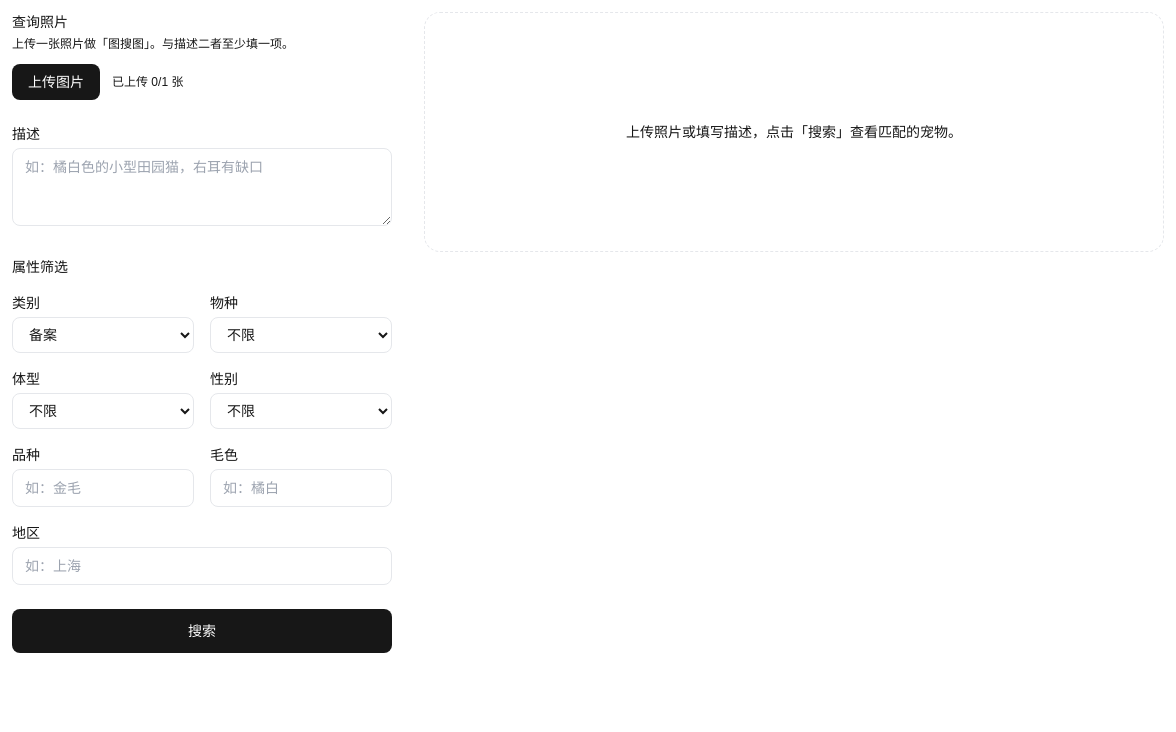
Scenario: SearchForm › preserves the submitted query when navigating between pages
Type "specific cat" into the text box labelled "描述" at (202, 187), box x1=12 y1=148 x2=392 y2=226
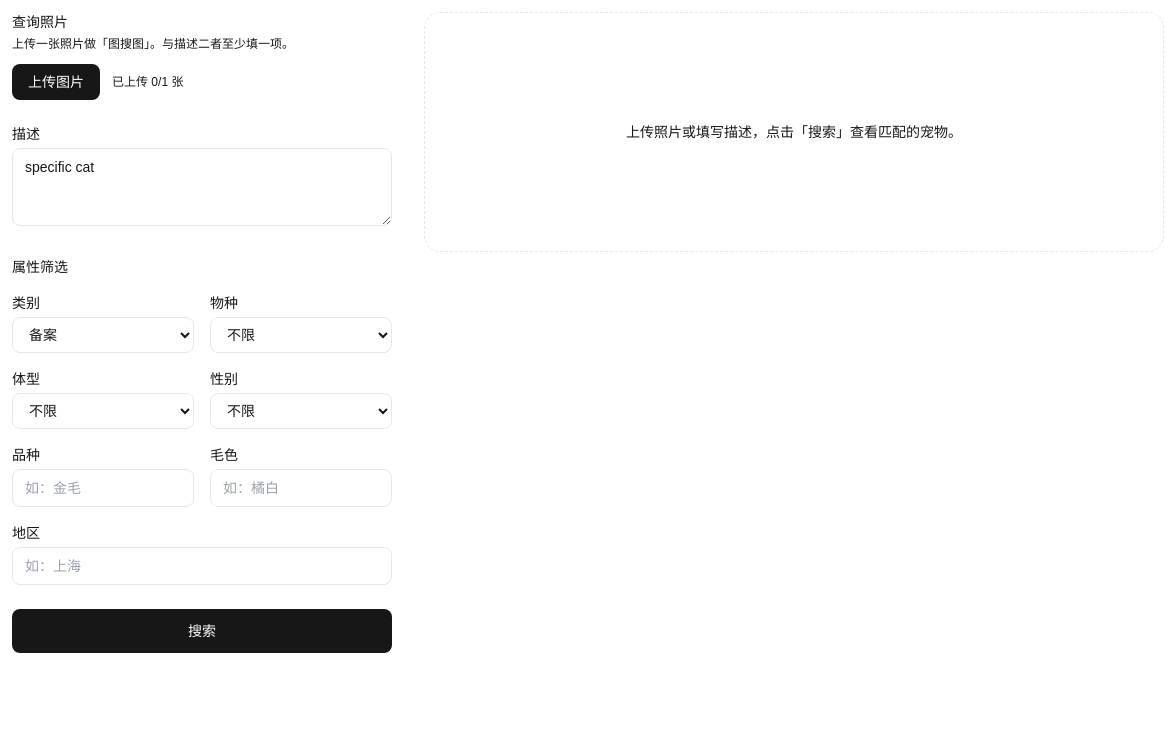
Click the button "搜索" at (202, 631), box x1=12 y1=609 x2=392 y2=653
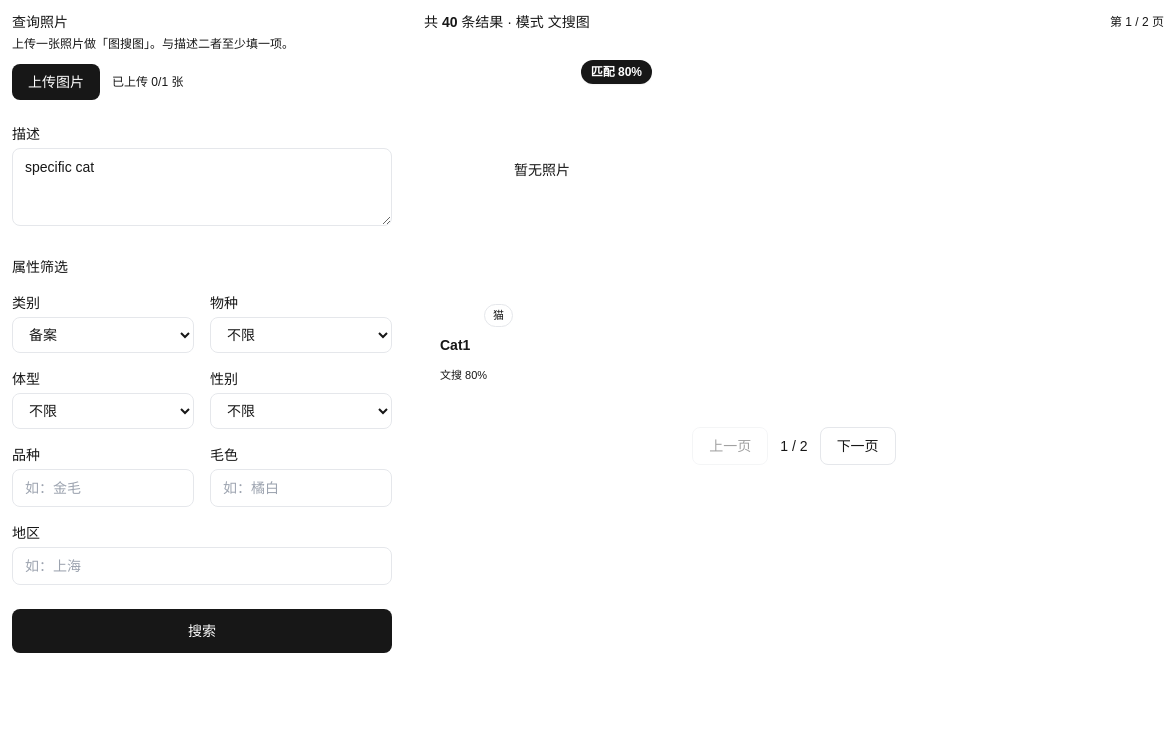
expect the heading "Cat1" is shown: met, box x1=440 y1=336 x2=470 y2=352
Note: Navigate to page 2
Click the button "下一页" at (858, 446), box x1=820 y1=427 x2=896 y2=465
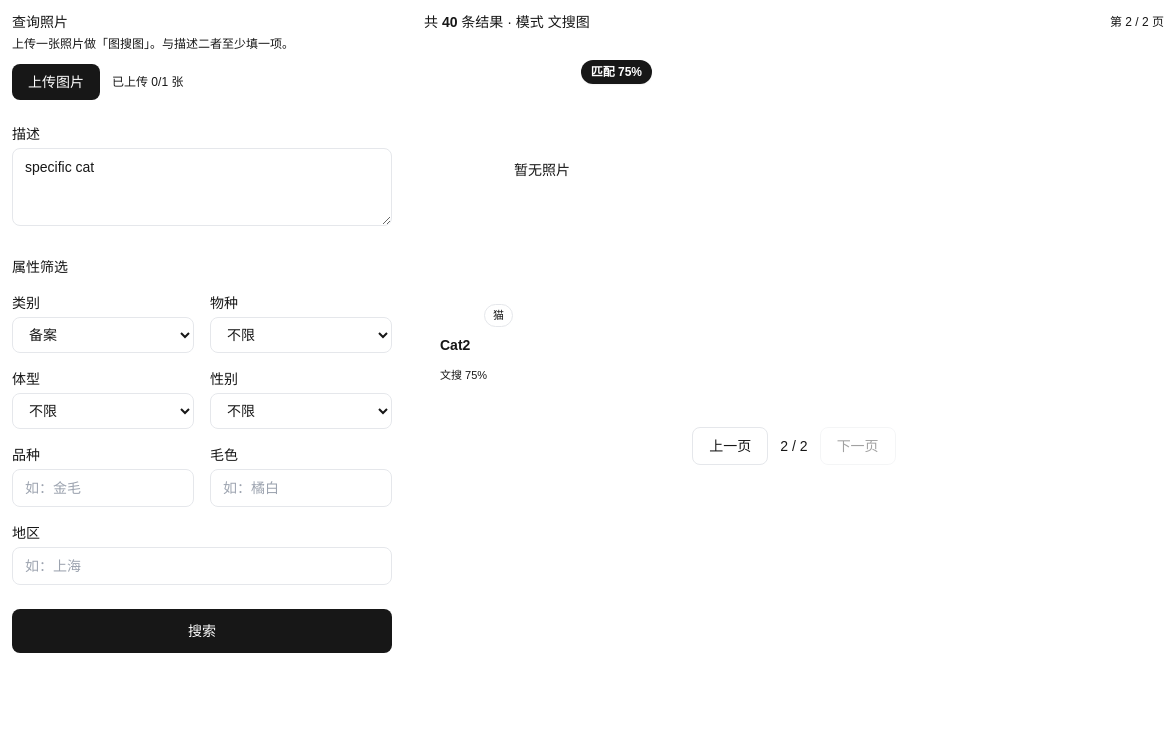
expect the heading "Cat2" is shown: met, box x1=440 y1=336 x2=470 y2=352
